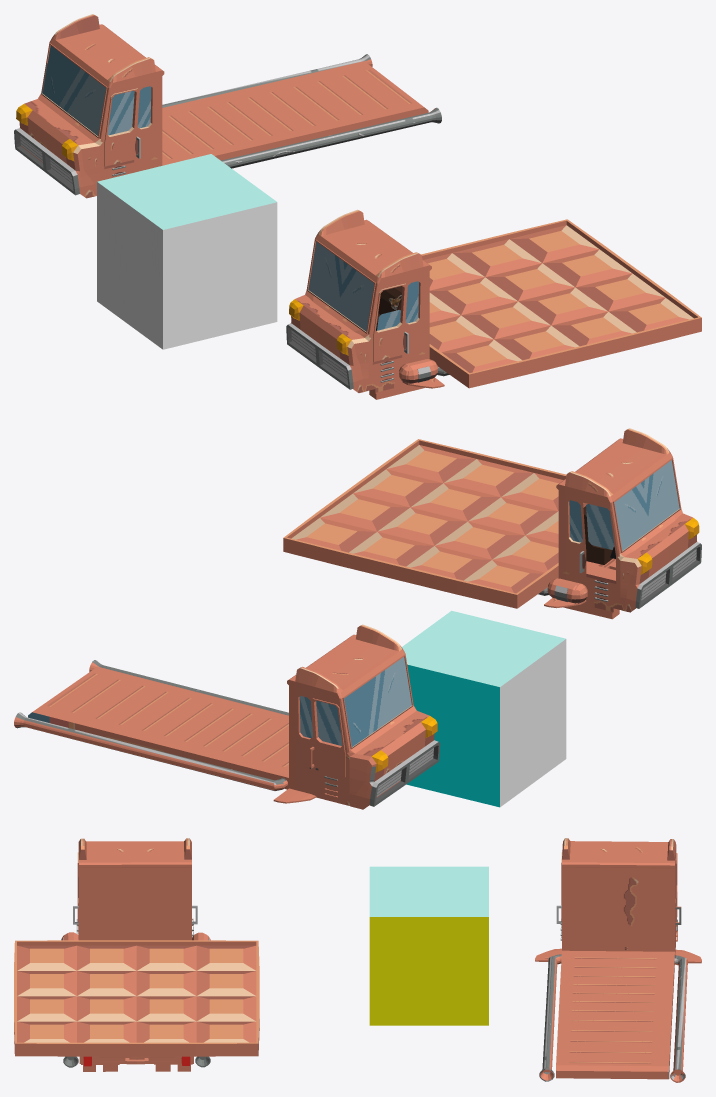
3 views of the same model, one above another, from view 1: azimuth 30°, elevation 25°; view 2: azimuth 150°, elevation 25°; view 3: azimuth 270°, elevation 25° (orthographic). The views are drawn at different scales.
Parts seen in each view (by area): view 1: Cube.002, Plateform, Cube, Truck.001, porte, Truck; view 2: Cube.002, Plateform, Cube, Truck.001, WindowsR; view 3: Cube.002, Plateform, Cube, Truck.001.
Part boxes in pixels (x1,y1,x2,y2): Cube.002: [14, 14, 441, 198]; Plateform: [421, 219, 701, 388]; Cube: [97, 154, 277, 349]; Truck.001: [286, 209, 449, 399]; porte: [373, 283, 405, 361]; Truck: [406, 359, 437, 383]; Cube.002: [14, 624, 440, 809]; Plateform: [283, 439, 566, 608]; Cube: [402, 610, 566, 807]; Truck.001: [538, 428, 701, 619]; WindowsR: [586, 504, 614, 549]; Cube.002: [535, 838, 701, 1082]; Plateform: [14, 940, 259, 1056]; Cube: [369, 866, 488, 1025]; Truck.001: [63, 838, 210, 1071].
Bounding box in the file's own units: 657 × 316 × 1150.
